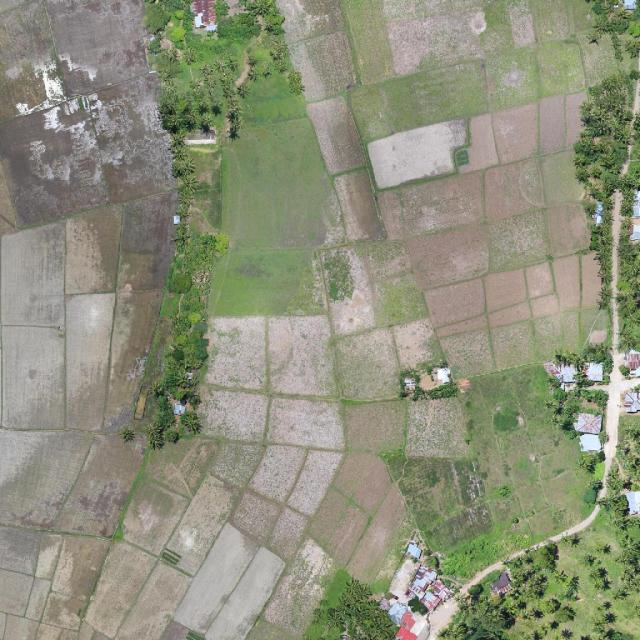building: (377, 536, 480, 640)
greenland: (374, 354, 619, 586), (546, 345, 615, 438)
